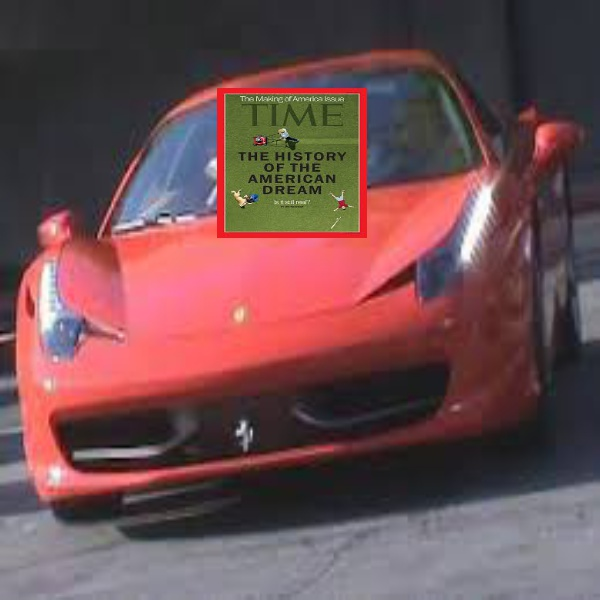time_cover: (205, 78, 374, 237)
